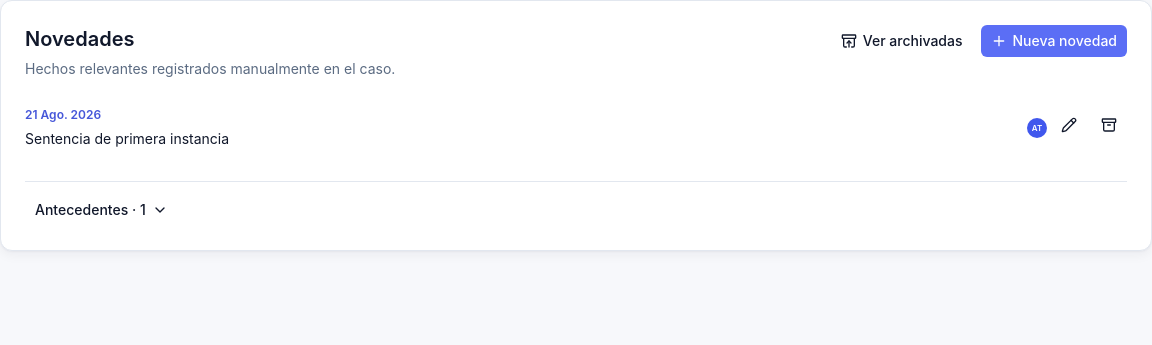
Test: CaseUpdatesSection › keeps backgrounds collapsed until requested
Expected: the text "Inicio de la fiscalización" is not shown
Click the button "Antecedentes · 1": (101, 210) top-left (25, 194), bottom-right (178, 226)
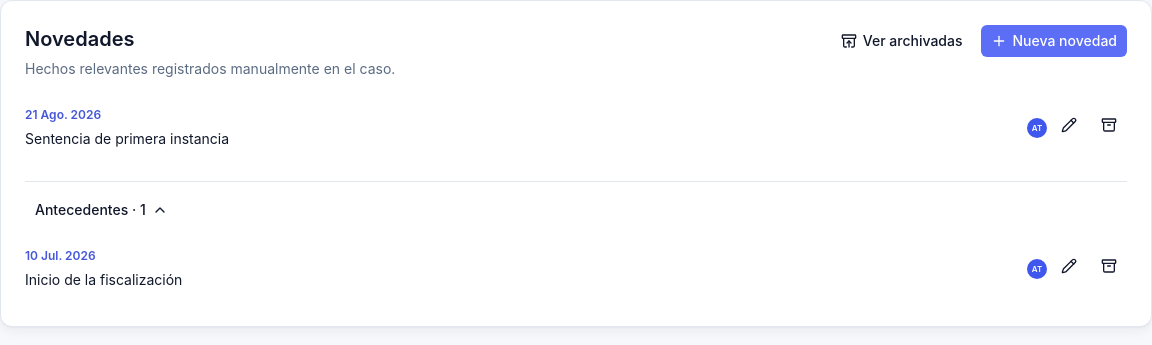
Expected: the text "Inicio de la fiscalización" is shown, top-left (25, 271), bottom-right (182, 288)
